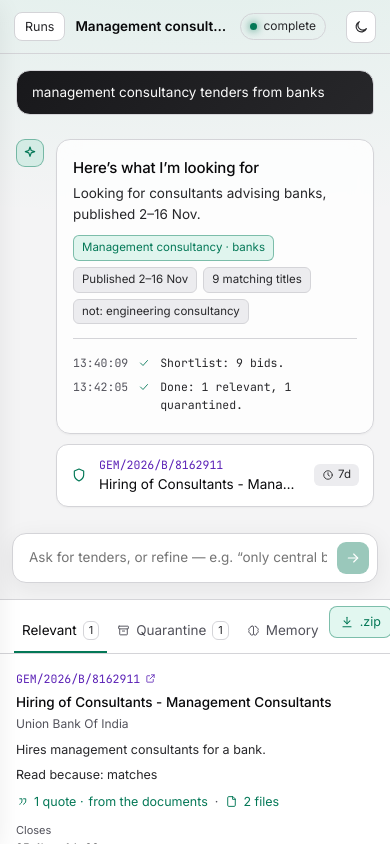
Test: status dot and menu › a Runs menu button toggles the sidebar drawer
Later steps or results of the test are not shown.
What coordinates should you click on to do the following:
click the button "Runs"
I would click on:
 (40, 26)
Its box is [14,12,65,41].
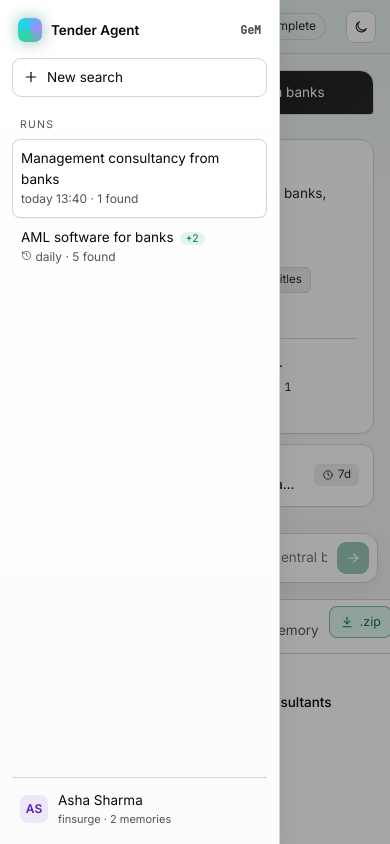
Expected: the button "Runs" is expanded, [14,12,65,41]
